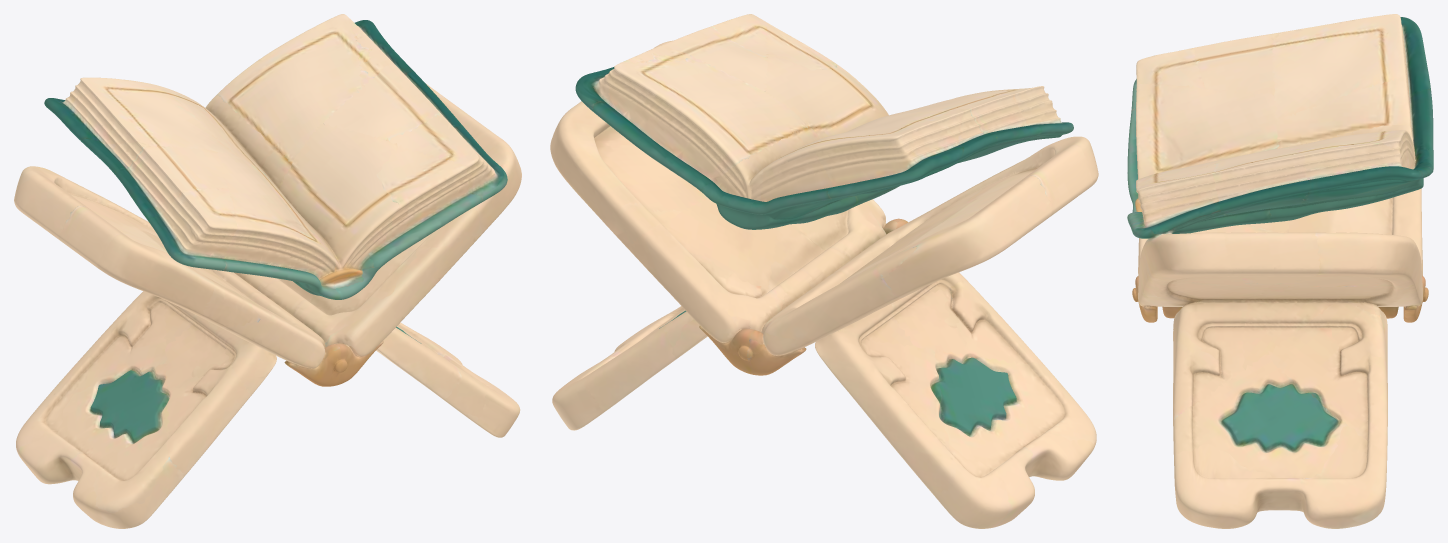
File: rehal-quran-variant-09-open-minimal-gold.glb
3 renders of one model, left to right at view 1: azimuth 30°, elevation 25°; view 2: azimuth 150°, elevation 25°; view 3: azimuth 270°, elevation 25°, orthographic. The views are drawn at different scales.
Parts seen in each view (by area): view 1: mesh_node; view 2: mesh_node; view 3: mesh_node.
Part boxes in pixels (x1,y1,x2,y2): mesh_node: (14,14,521,528); mesh_node: (550,14,1098,528); mesh_node: (1127,14,1433,528).
Size of the model in its own units: 1.9 by 1.54 by 1.19.
Materials: 1 (1 with a texture image).
